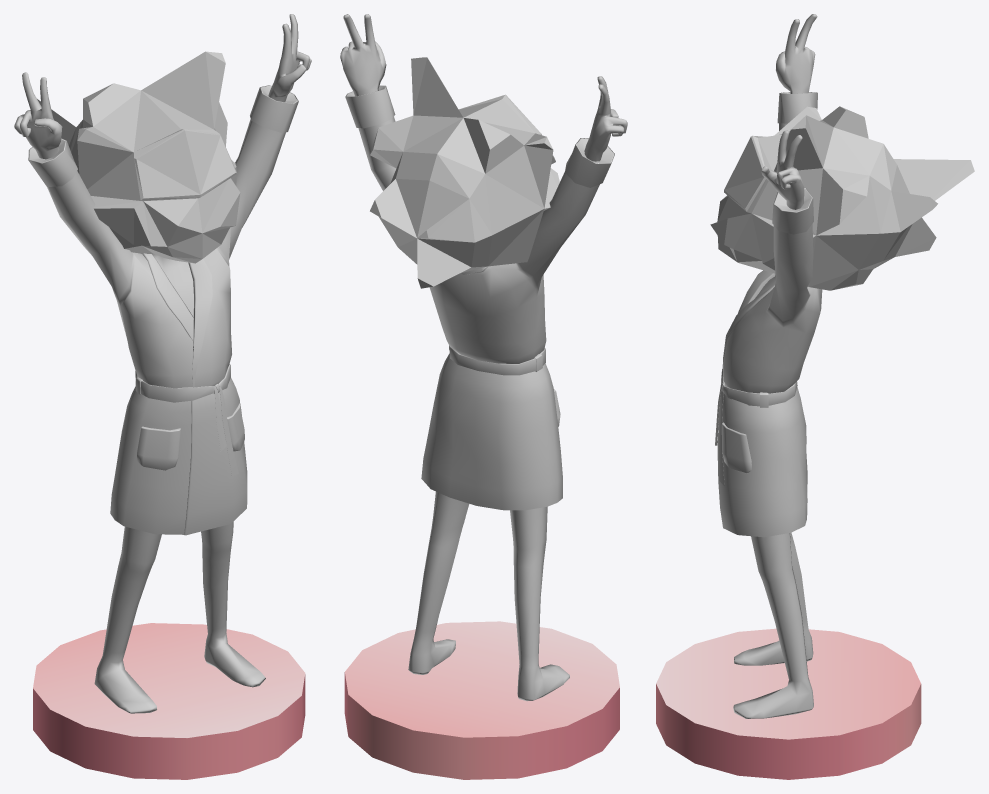
Rendered from Doll_DJ_Statue_001.fbx.
The picture shows the model from 3 angles, left to right: view 1: azimuth 30°, elevation 25°; view 2: azimuth 150°, elevation 25°; view 3: azimuth 270°, elevation 25°; orthographic projection. The views are drawn at different scales.
Parts seen in each view (by area): view 1: DJ_Statue_1 (×2), DJ_Statue; view 2: DJ_Statue_1 (×2), DJ_Statue; view 3: DJ_Statue_1 (×2), DJ_Statue.
Boxes of the visible parts, box(x1,y1,x2,y2) form: DJ_Statue_1 (×2): box(33, 51, 305, 779); DJ_Statue: box(14, 14, 311, 713); DJ_Statue_1 (×2): box(344, 57, 619, 779); DJ_Statue: box(340, 14, 627, 701); DJ_Statue_1 (×2): box(656, 106, 974, 779); DJ_Statue: box(715, 14, 822, 718).
Size of the model in its own units: 55.7 by 125 by 55.47.
